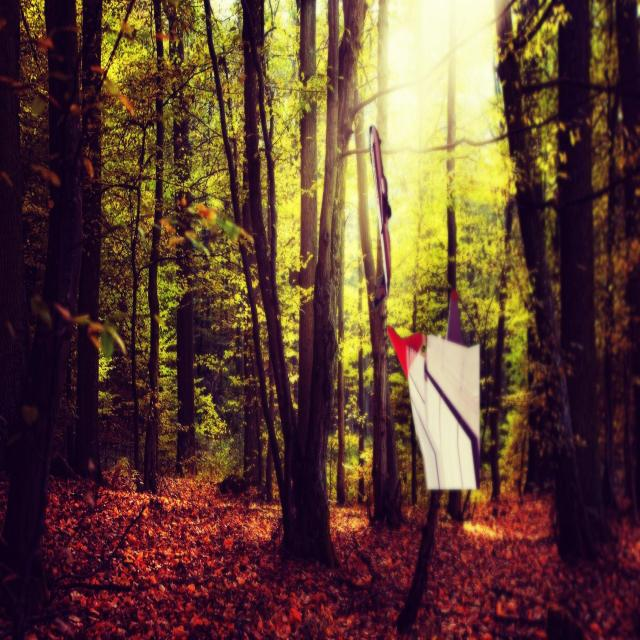airplane: (386, 290, 480, 490), (369, 126, 393, 298)
